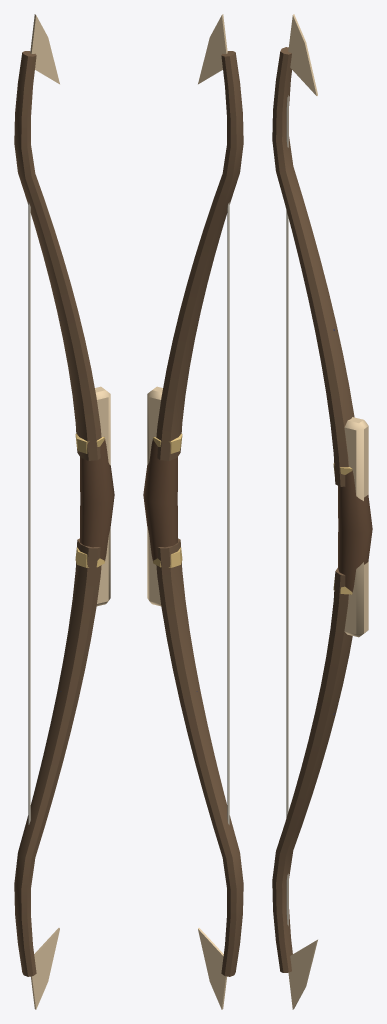
File: depth_dawnfeather_bow.glb
The picture shows the model from 3 angles, left to right: view 1: azimuth 30°, elevation 25°; view 2: azimuth 150°, elevation 25°; view 3: azimuth 330°, elevation 25°; orthographic projection.
Parts seen in each view (by area): view 1: depth_dawnfeather_bow; view 2: depth_dawnfeather_bow; view 3: depth_dawnfeather_bow.
Boxes of the visible parts, <box> form: depth_dawnfeather_bow: <box>14,14,114,1009</box>; depth_dawnfeather_bow: <box>143,14,243,1009</box>; depth_dawnfeather_bow: <box>272,14,372,1009</box>.
Size of the model in its own units: 0.1598 by 1.58 by 0.044.
